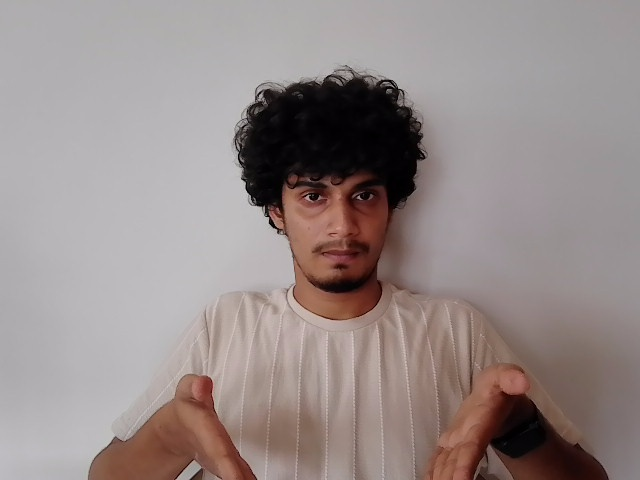here: (165, 365, 531, 480)
